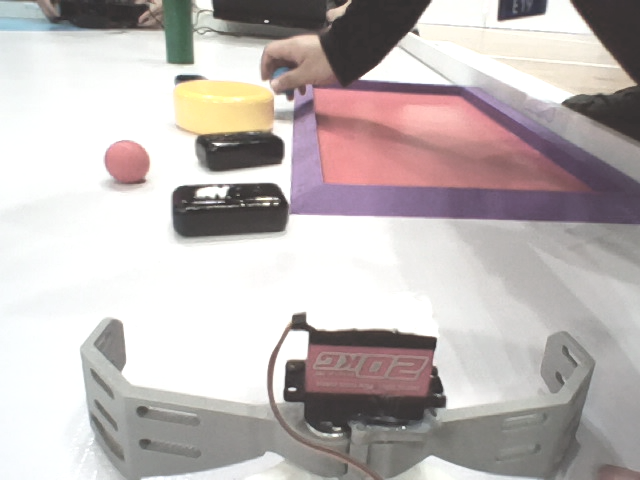black: (163, 183, 290, 235), (187, 132, 289, 167), (167, 71, 216, 87)
kuang: (290, 74, 640, 222)
red: (98, 134, 150, 185)
yellow: (166, 80, 281, 135)
zhuzi: (157, 1, 204, 67)
